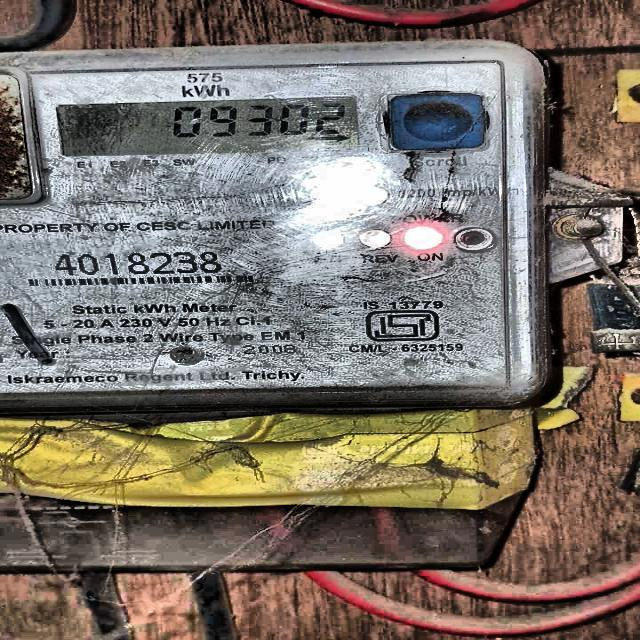Digital: (4, 53, 536, 408)
Reading: (163, 100, 352, 145)
Serial No.: (52, 250, 230, 274)
